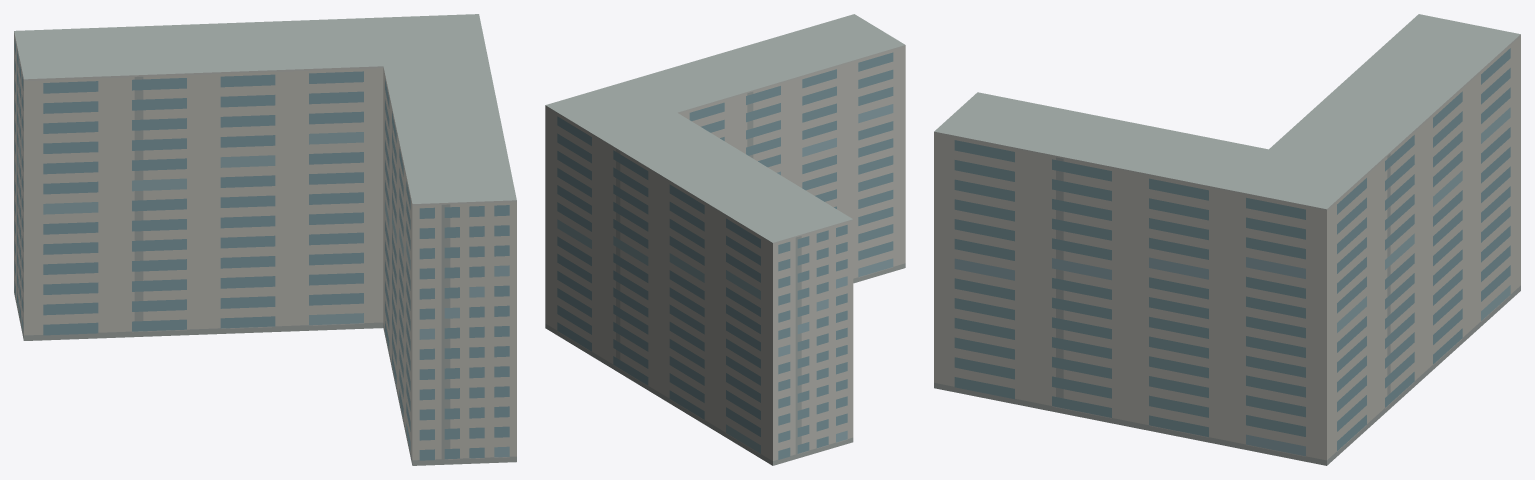
File: residential-1d28e5b2-852d-431b-9feb-43fd109539b4.glb
The picture shows the model from 3 angles, left to right: view 1: azimuth 30°, elevation 25°; view 2: azimuth 150°, elevation 25°; view 3: azimuth 270°, elevation 25°; orthographic projection. The views are drawn at different scales.
Visible parts, largest first — view 1: residential-1d28e5b2-852d-431b-9feb-43fd109539b4.tmp; view 2: residential-1d28e5b2-852d-431b-9feb-43fd109539b4.tmp; view 3: residential-1d28e5b2-852d-431b-9feb-43fd109539b4.tmp.
Boxes of the visible parts, x1=… form: residential-1d28e5b2-852d-431b-9feb-43fd109539b4.tmp: x1=14, y1=14, x2=516, y2=465; residential-1d28e5b2-852d-431b-9feb-43fd109539b4.tmp: x1=545, y1=14, x2=905, y2=465; residential-1d28e5b2-852d-431b-9feb-43fd109539b4.tmp: x1=934, y1=14, x2=1520, y2=465.
Bounding box in the file's own units: 64.72 × 39.65 × 82.16.
